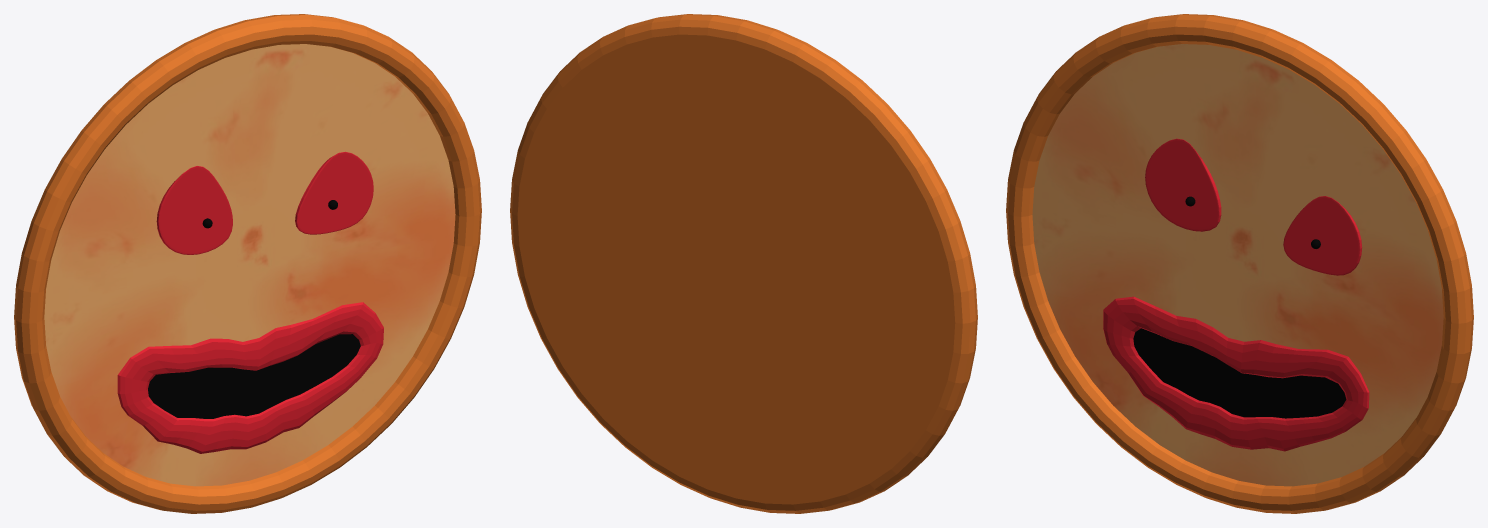
Rendered from pizzaMonster.glb.
3 renders of one model, left to right at view 1: azimuth 30°, elevation 25°; view 2: azimuth 150°, elevation 25°; view 3: azimuth 330°, elevation 25°, orthographic.
Parts seen in each view (by area): view 1: Pie, Crust, Lips, Eye_Right, Eye_Left; view 2: Crust; view 3: Pie, Crust, Lips, Eye_Right, Eye_Left.
Boxes of the visible parts, x1=… form: Pie: x1=44, y1=44, x2=455, y2=486; Crust: x1=14, y1=14, x2=481, y2=513; Lips: x1=117, y1=302, x2=383, y2=453; Eye_Right: x1=156, y1=166, x2=232, y2=254; Eye_Left: x1=295, y1=151, x2=373, y2=234; Crust: x1=510, y1=14, x2=977, y2=513; Pie: x1=1032, y1=44, x2=1443, y2=486; Crust: x1=1006, y1=14, x2=1473, y2=513; Lips: x1=1103, y1=296, x2=1369, y2=451; Eye_Right: x1=1145, y1=138, x2=1221, y2=231; Eye_Left: x1=1283, y1=196, x2=1362, y2=275.
Size of the model in its own units: 1.06 by 1.06 by 0.06.
Materials: 4 (1 with a texture image).
